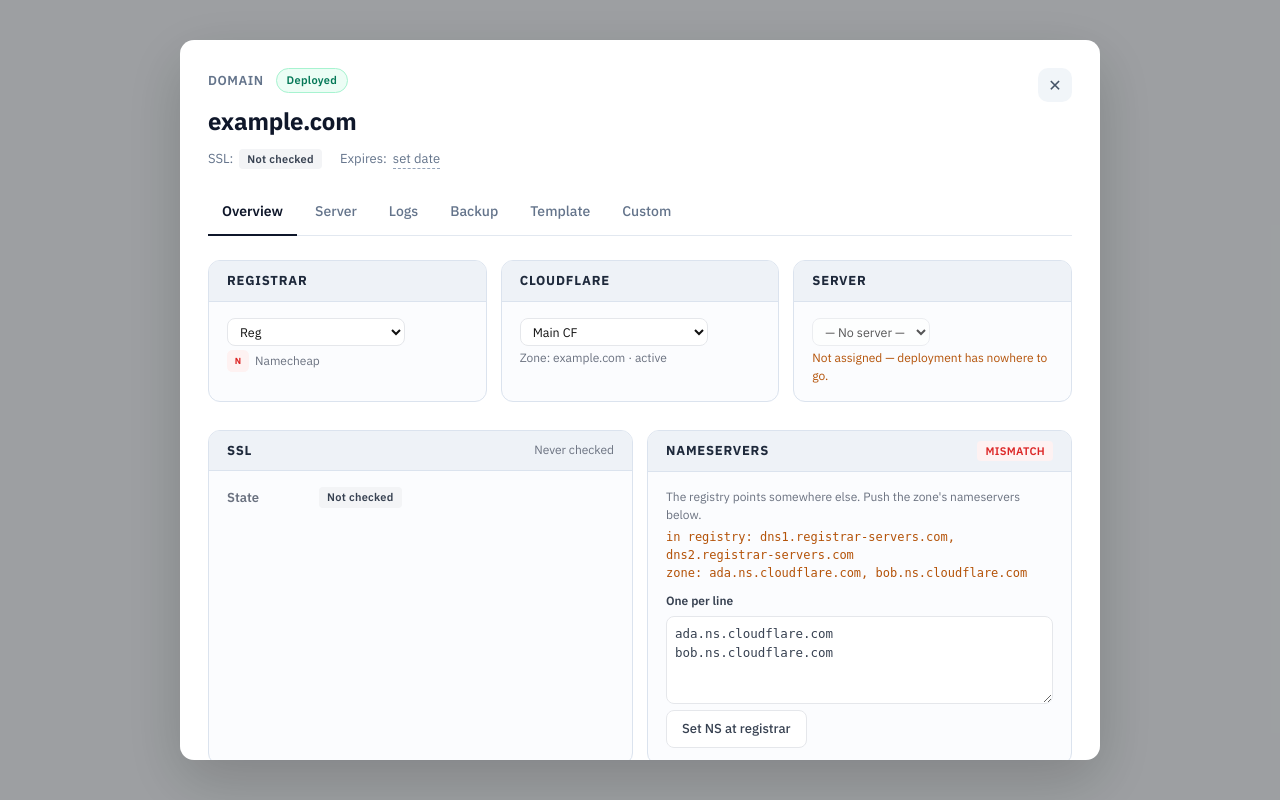
Test: делегирование — три состояния и «не знаем» › отказавший пуш совета не отменяет, но кэш реестра гасит
Click the button "Set NS at registrar" at coordinates (736, 729), box left=666, top=710, right=806, bottom=748
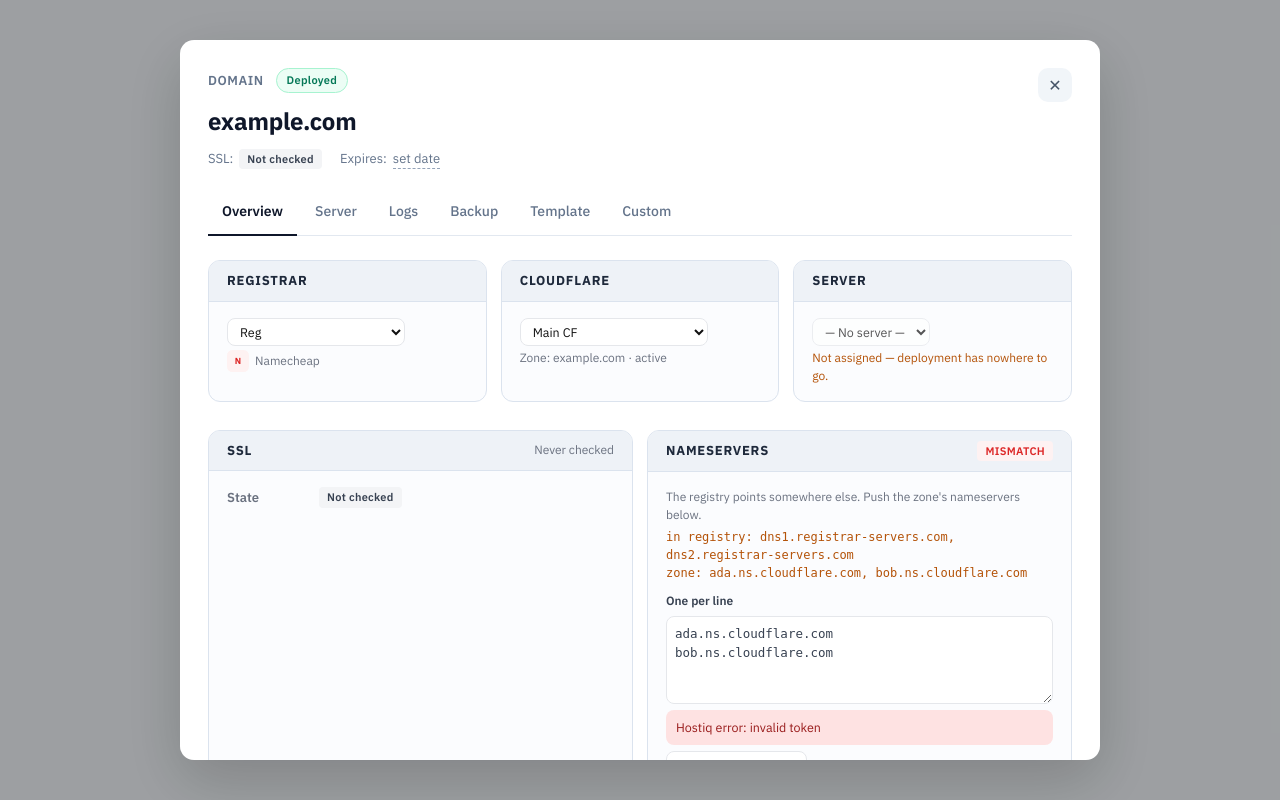
Expected: the text "Push the zone's nameservers below" is shown, left=666, top=489, right=1020, bottom=522
Result: the message shows "invalid token" at left=676, top=719, right=821, bottom=735
